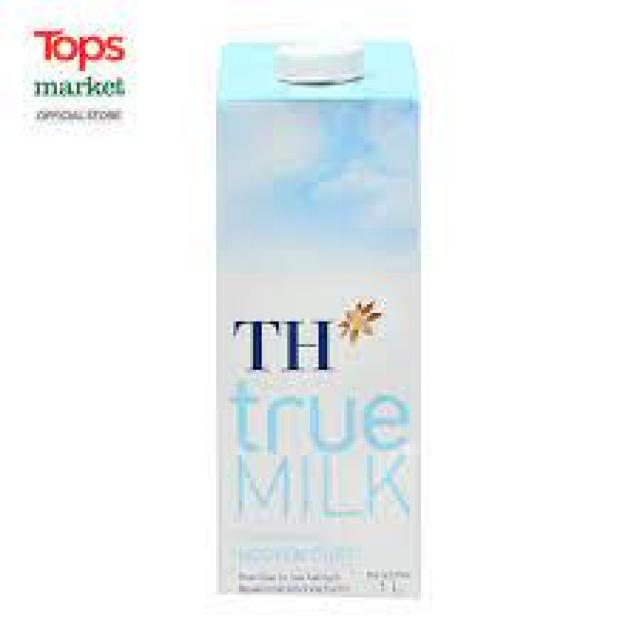non_white_jug: (182, 7, 430, 610)
